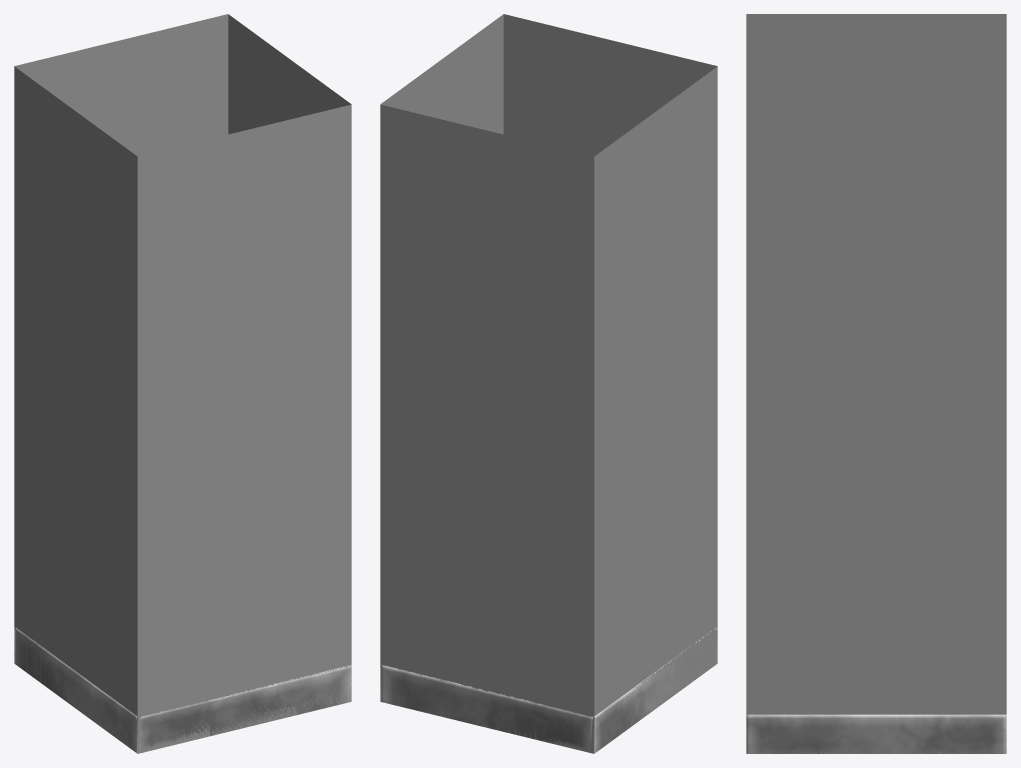
File: stonemonumentbig01.fbx
3 views of the same model, side by side, from view 1: azimuth 30°, elevation 25°; view 2: azimuth 150°, elevation 25°; view 3: azimuth 270°, elevation 25° (orthographic). The views are drawn at different scales.
Visible parts, largest first — view 1: col_w, mdl_LOD0, col_o; view 2: col_w, mdl_LOD0, col_o; view 3: col_w, mdl_LOD0.
Boxes of the visible parts, x1,y1,x2,y2 form: col_w: (14,14,351,752); mdl_LOD0: (14,627,351,753); col_o: (14,632,351,753); col_w: (380,14,717,753); mdl_LOD0: (380,627,717,753); col_o: (381,629,717,753); col_w: (746,14,1006,753); mdl_LOD0: (746,714,1006,753).
Size of what is drawn, in the model's own units: 300 by 800 by 300.
